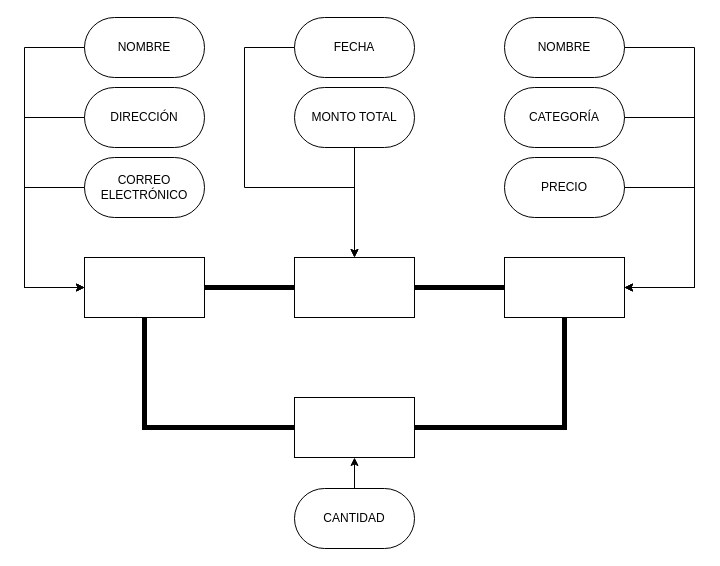
Image size: 720x566. Some labels were removed from this diagram. The centre of each missing label's shape, as x and y in pixels:
CLIENTE: (x=144, y=287)
DETALLE DE VENTA: (x=354, y=427)
PRODUCTO: (x=564, y=287)
VENTA: (x=354, y=287)
